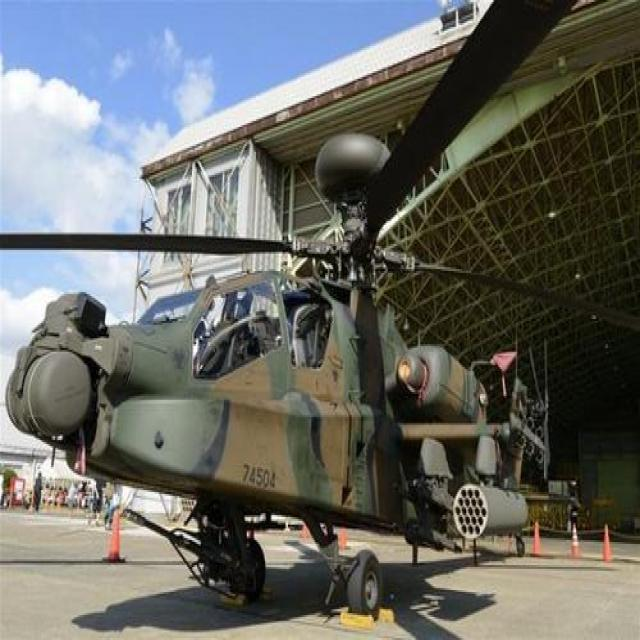MIL_HELO: (11, 152, 562, 590)
